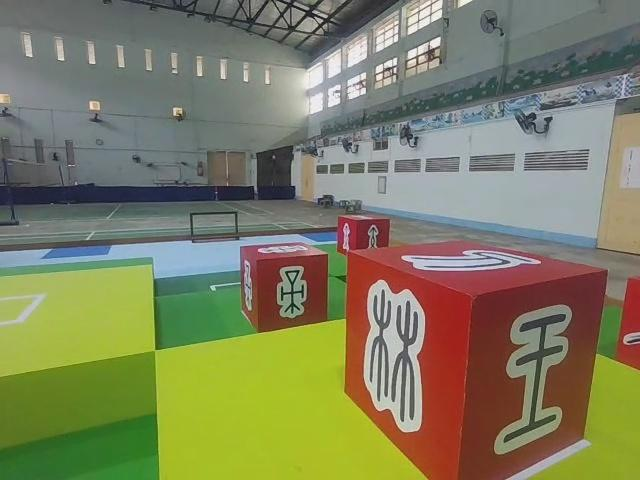R2 Fake: (343, 237, 611, 480)
R2 Real: (238, 239, 332, 335), (334, 210, 392, 263)
